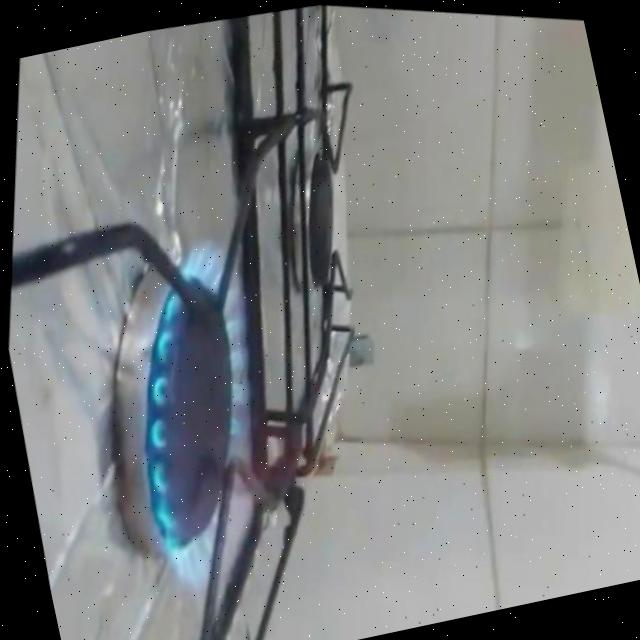fire: (61, 196, 343, 626)
